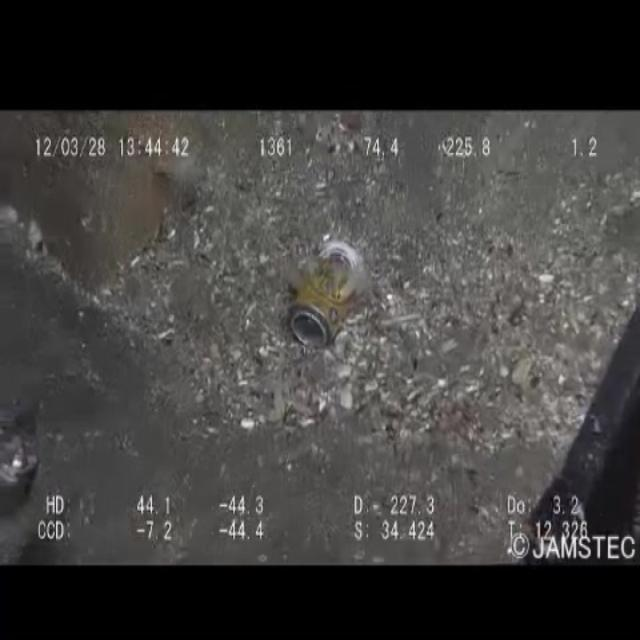Metal: (286, 207, 368, 361)
